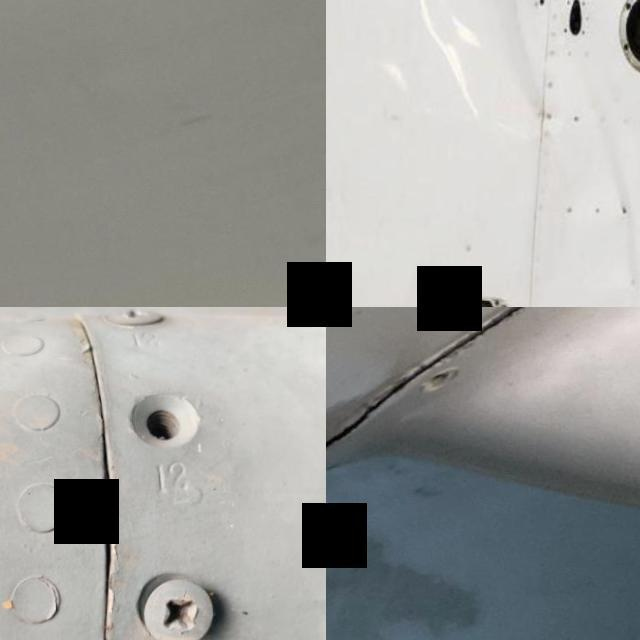Crack: (388, 307, 590, 381), (326, 365, 418, 507)
Dent: (425, 0, 548, 139), (600, 103, 640, 307)
Missing_Fastener: (102, 362, 228, 474), (428, 366, 459, 389)
